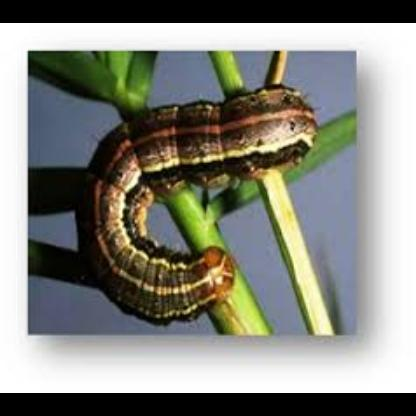oruga: (78, 74, 326, 304)
